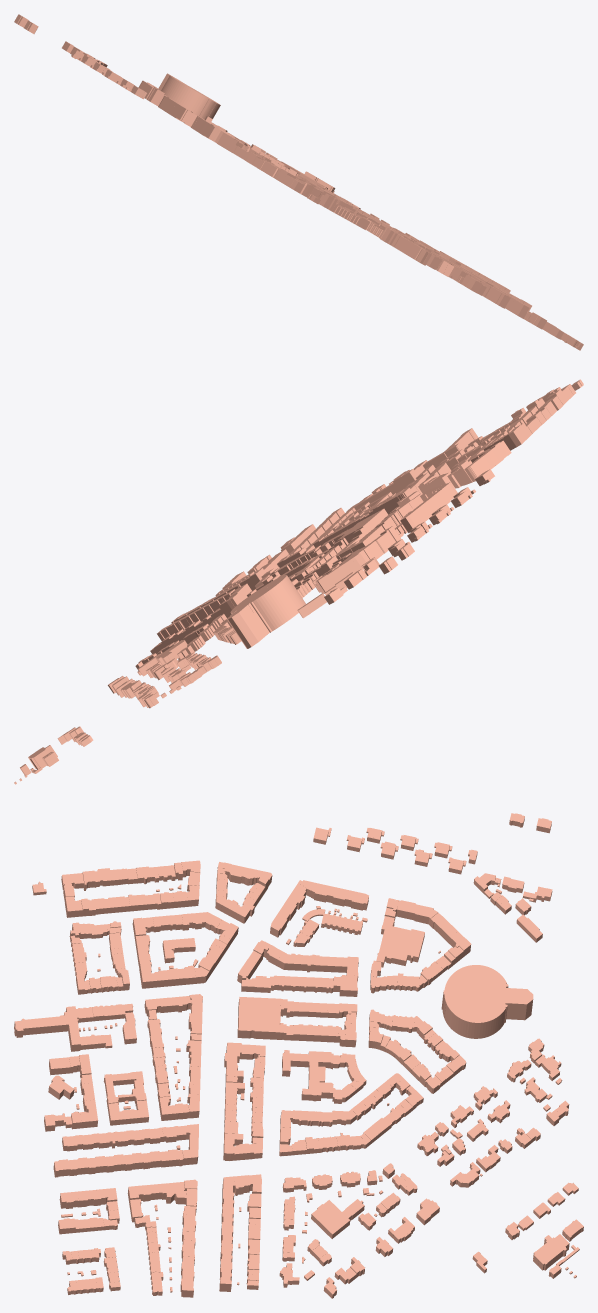
The picture shows the model from 3 angles, top to bottom: view 1: azimuth 30°, elevation 25°; view 2: azimuth 150°, elevation 25°; view 3: azimuth 270°, elevation 25°; orthographic projection. The views are drawn at different scales.
Bounding box in the file's own units: 529 × 388 × 662.
